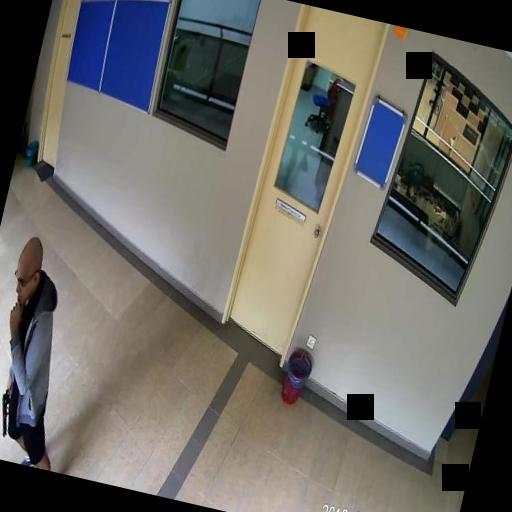Handgun: (0, 385, 16, 435)
